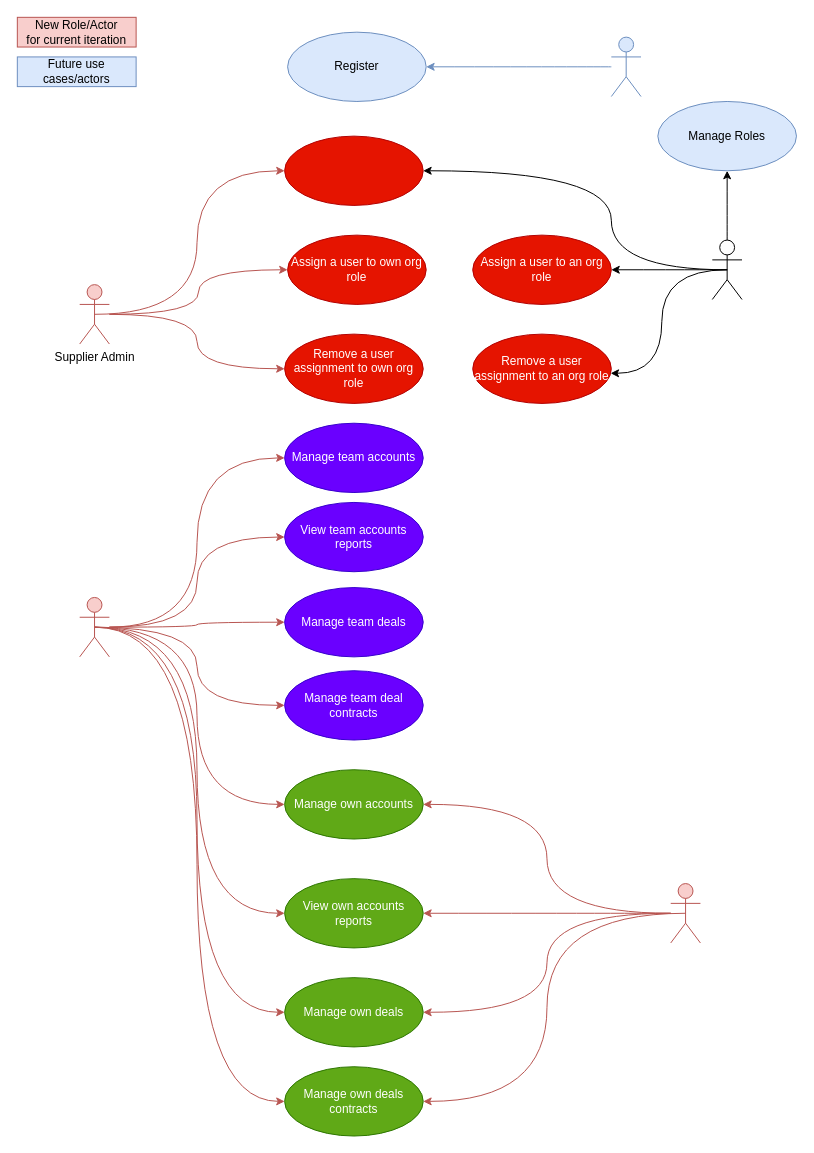
This 814x1153 diagram has some shape labels left out. Each missing label, with the centre of its shape:
Add user: the point at 353,170
POWWR Admin: the point at 726,269
Public: the point at 625,66
Sales Agent: the point at 685,913
Sales Agent Mgr: the point at 94,626
